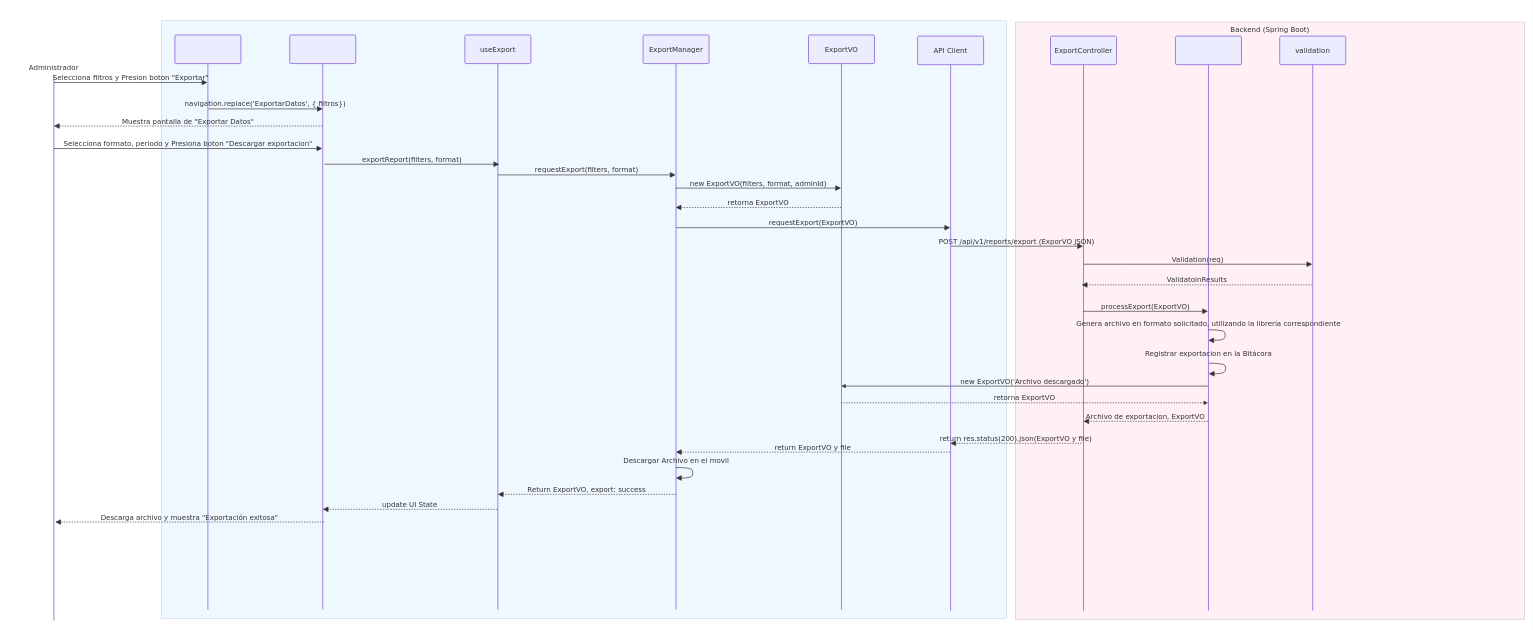
Some shapes in this 1533 by 630 pixel diagram are drawn without their labels. Each missing label, with the box of its shape:
ExportarDatosScreen: (289, 34, 356, 610)
ExportService: (1175, 35, 1242, 611)
Frontend (React Native): (161, 21, 1006, 618)
PanelAdministrativo Screen: (174, 34, 241, 610)
